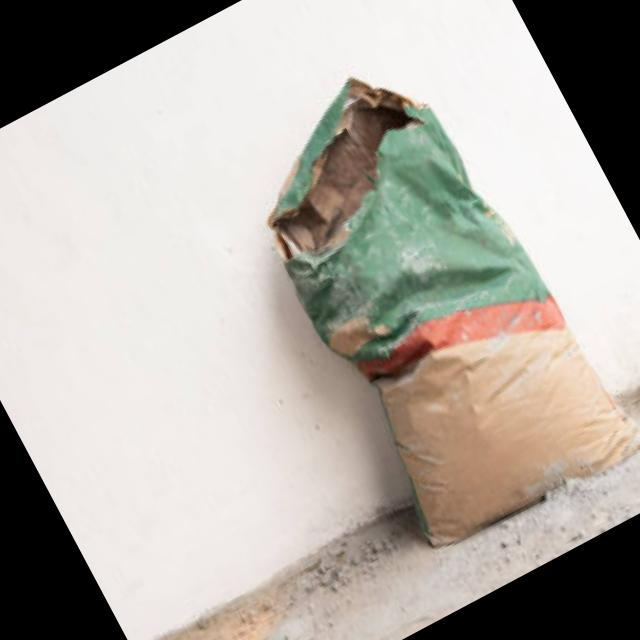KantongSemen: (212, 29, 640, 561)
